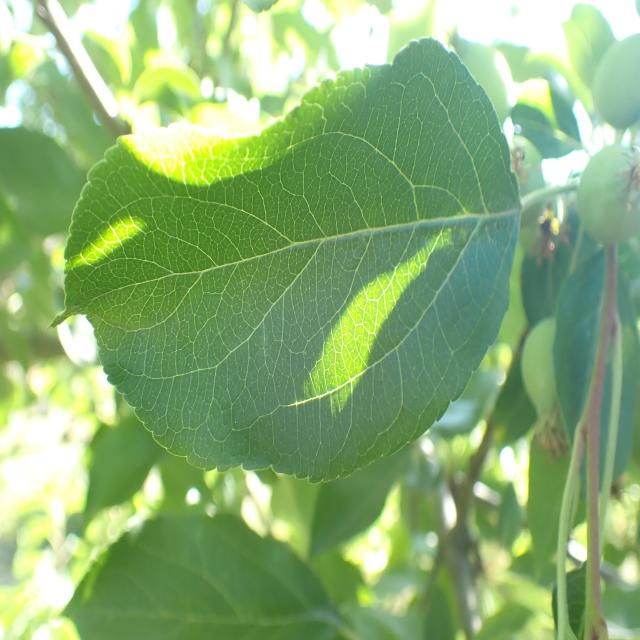healthy: (50, 36, 524, 486)
